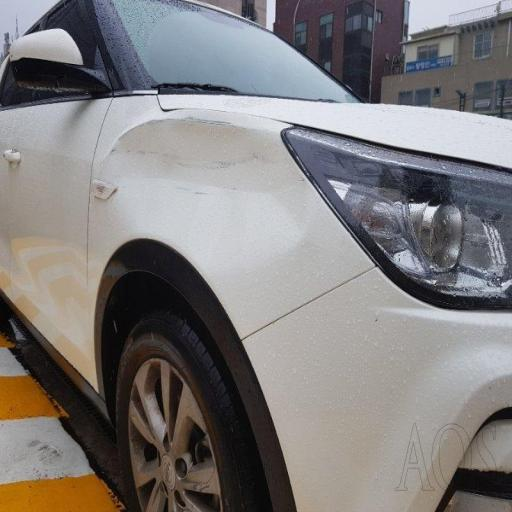dent: (96, 92, 334, 306)
